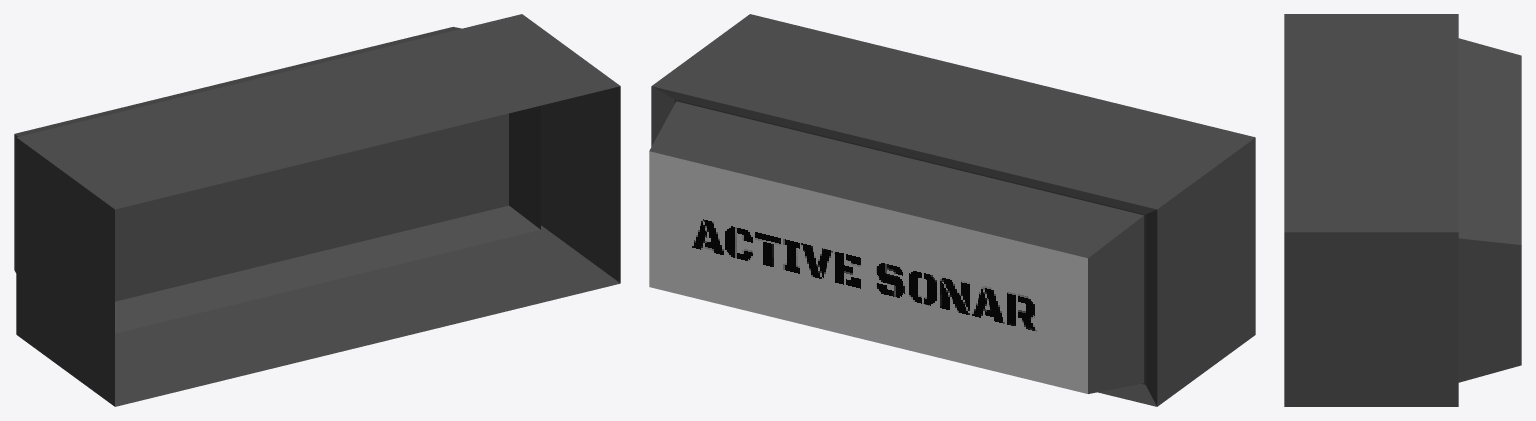
Rendered from ActiveSonarButton.glb.
The picture shows the model from 3 angles, left to right: view 1: azimuth 30°, elevation 25°; view 2: azimuth 150°, elevation 25°; view 3: azimuth 270°, elevation 25°; orthographic projection. The views are drawn at different scales.
Parts seen in each view (by area): view 1: ButtonHousing, Button; view 2: Button, ButtonHousing; view 3: ButtonHousing, Button.
Part boxes in pixels (x1,y1,x2,y2): ButtonHousing: [16, 14, 620, 406]; Button: [14, 27, 540, 333]; Button: [649, 101, 1143, 393]; ButtonHousing: [651, 14, 1255, 406]; ButtonHousing: [1284, 14, 1458, 406]; Button: [1458, 38, 1521, 382].
Bounding box in the file's own units: 0.5138 × 0.1917 × 0.2363.
1 material, 1 textured.
